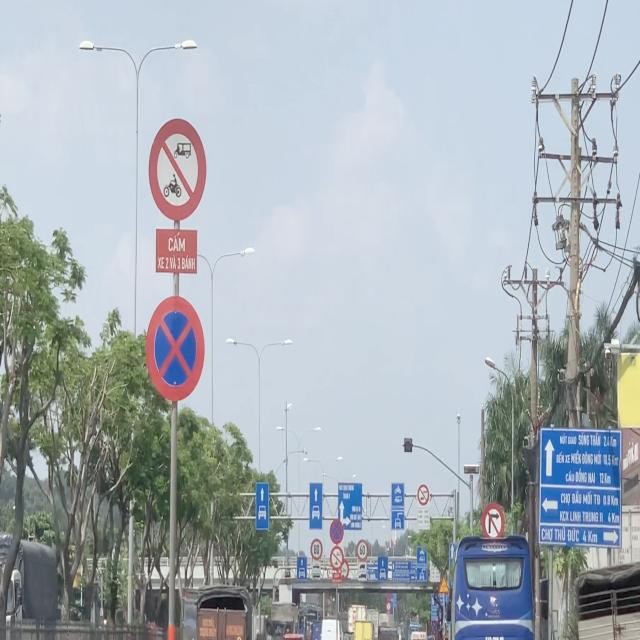Cam con lai: (148, 116, 208, 223), (330, 545, 344, 570), (417, 482, 430, 507)
Cam dung va do: (146, 295, 204, 402), (329, 519, 344, 544), (431, 622, 438, 634)
Cam re phai: (482, 502, 504, 544)
Nguy hiem: (438, 577, 450, 594)
Toc do toi da: (310, 538, 323, 561), (356, 539, 368, 561)
